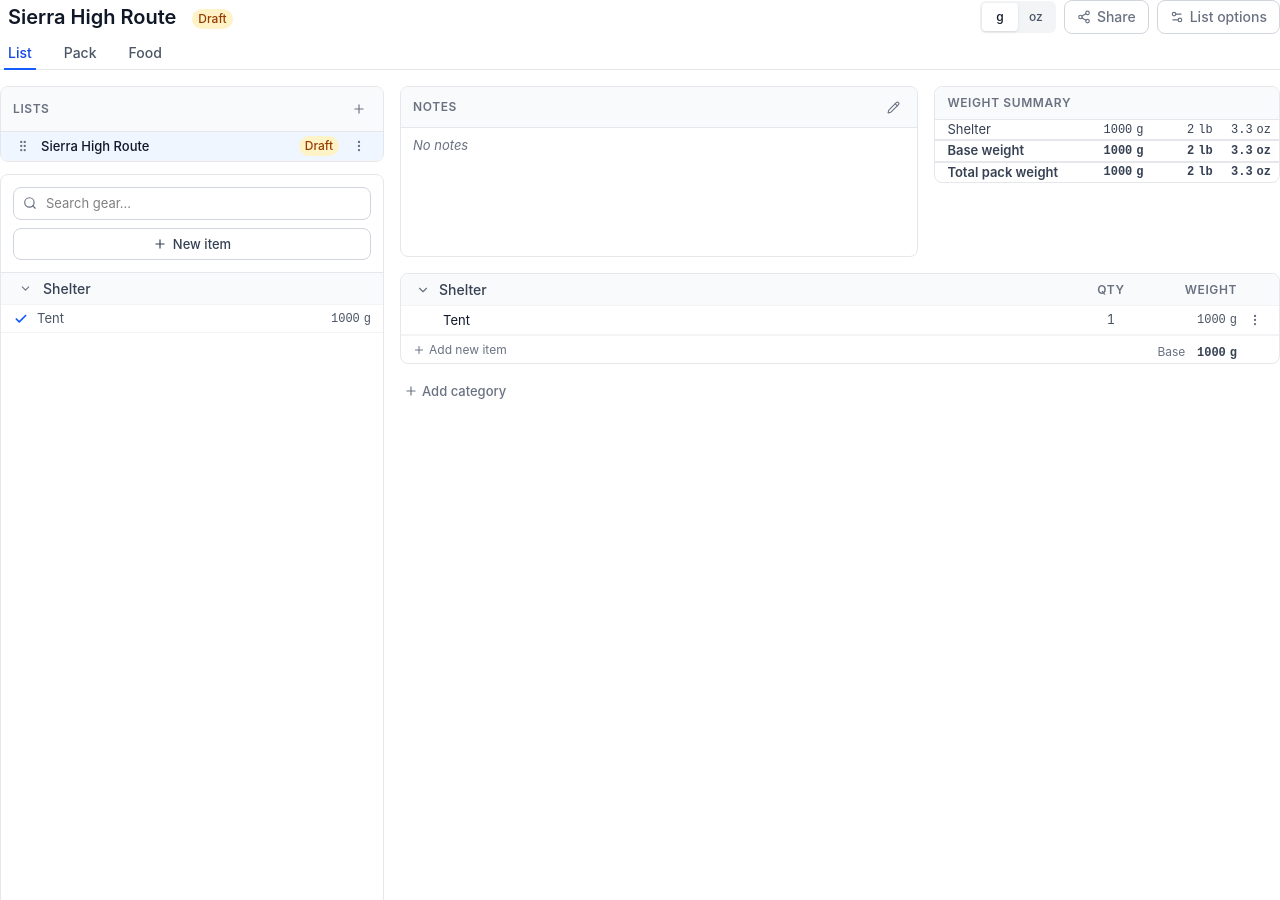
Test case: the edit-gear dialog save › a gear write outstanding from elsewhere does not make this dialog claim it is saving
Click the button named "Item options": (1255, 320) top-left (1243, 308), bottom-right (1267, 332)
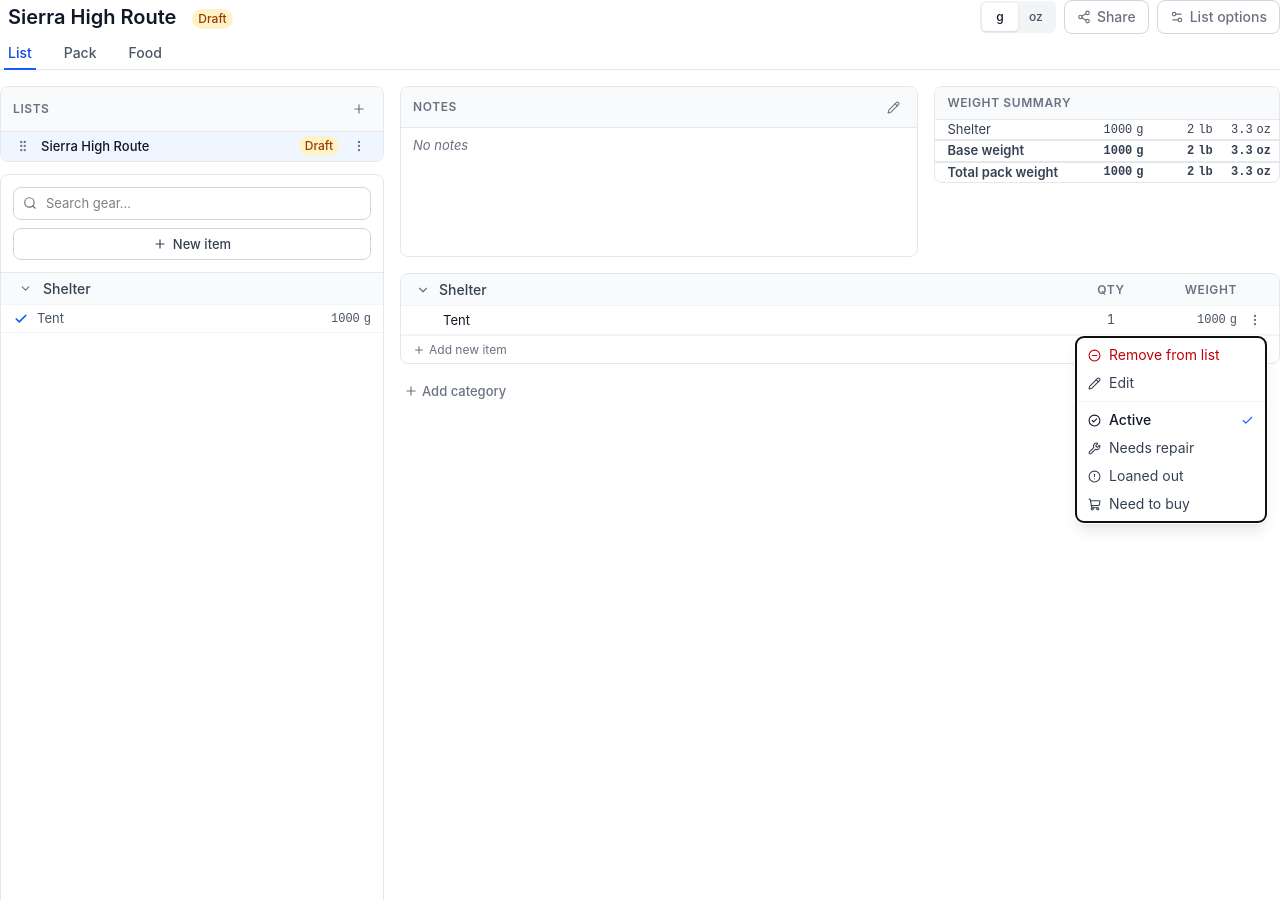
Click the button "Loaned out": (1171, 476) top-left (1076, 462), bottom-right (1266, 490)
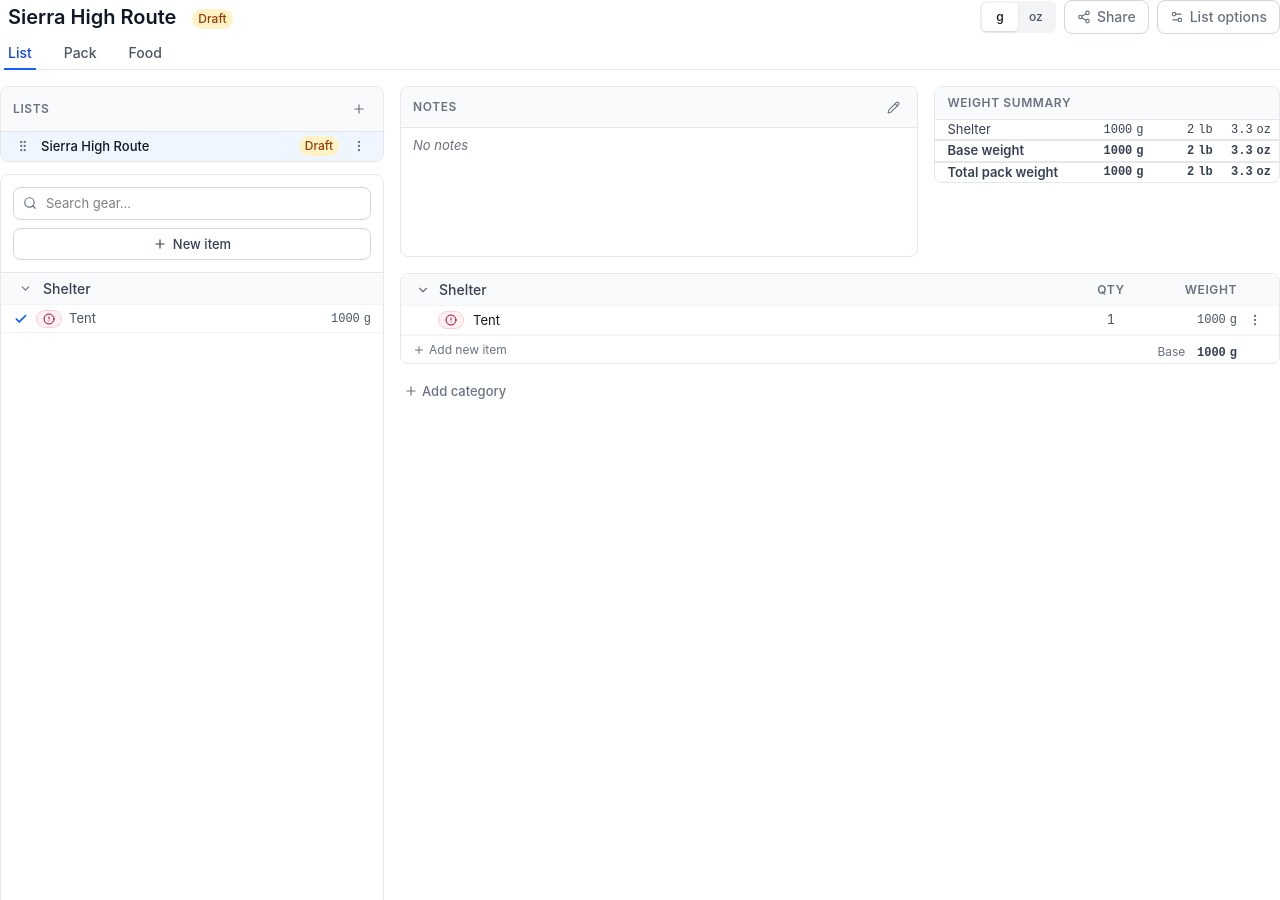
Click the button named "Item options": (1255, 320) top-left (1243, 308), bottom-right (1267, 332)
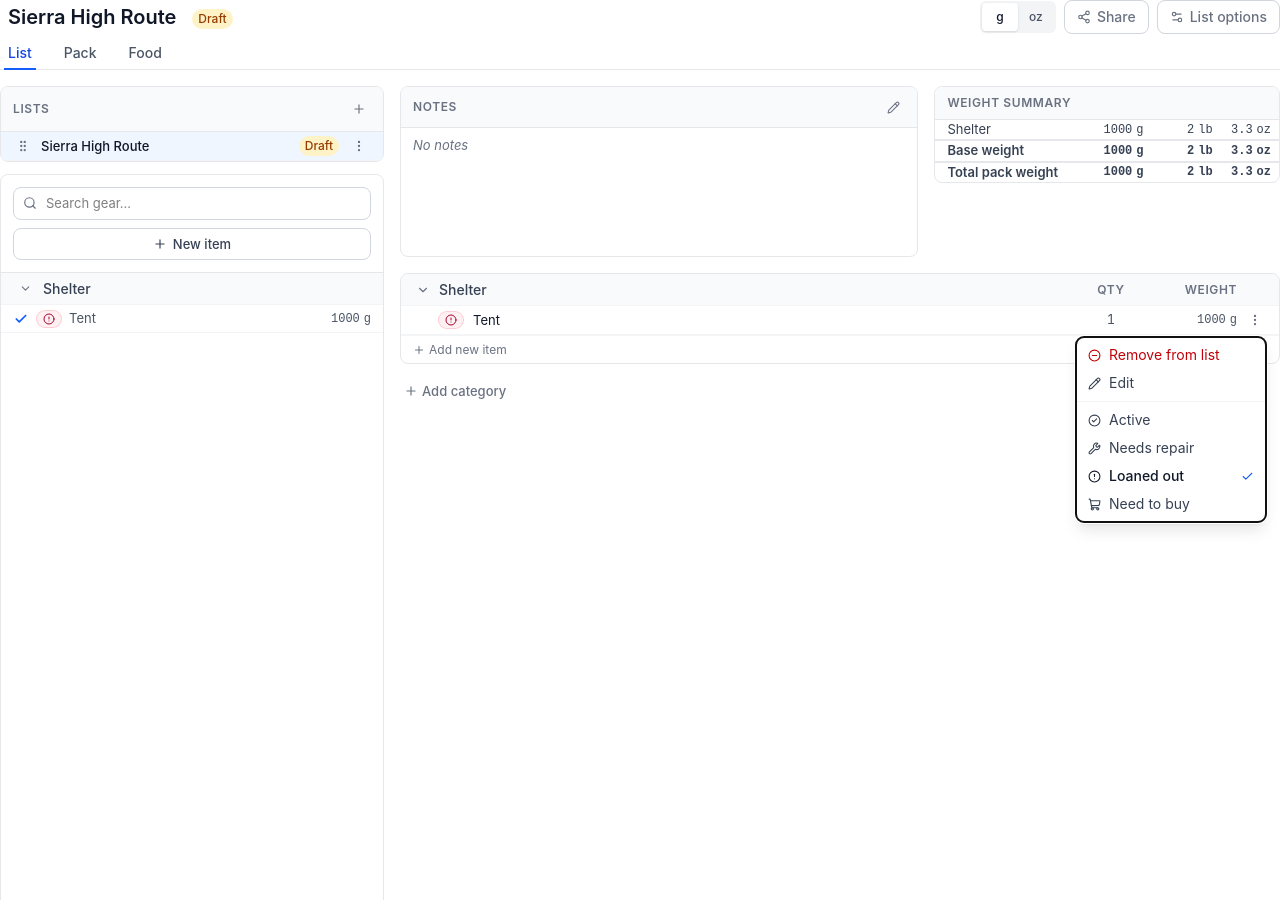
Click the button "Edit": (1171, 383) top-left (1076, 369), bottom-right (1266, 397)
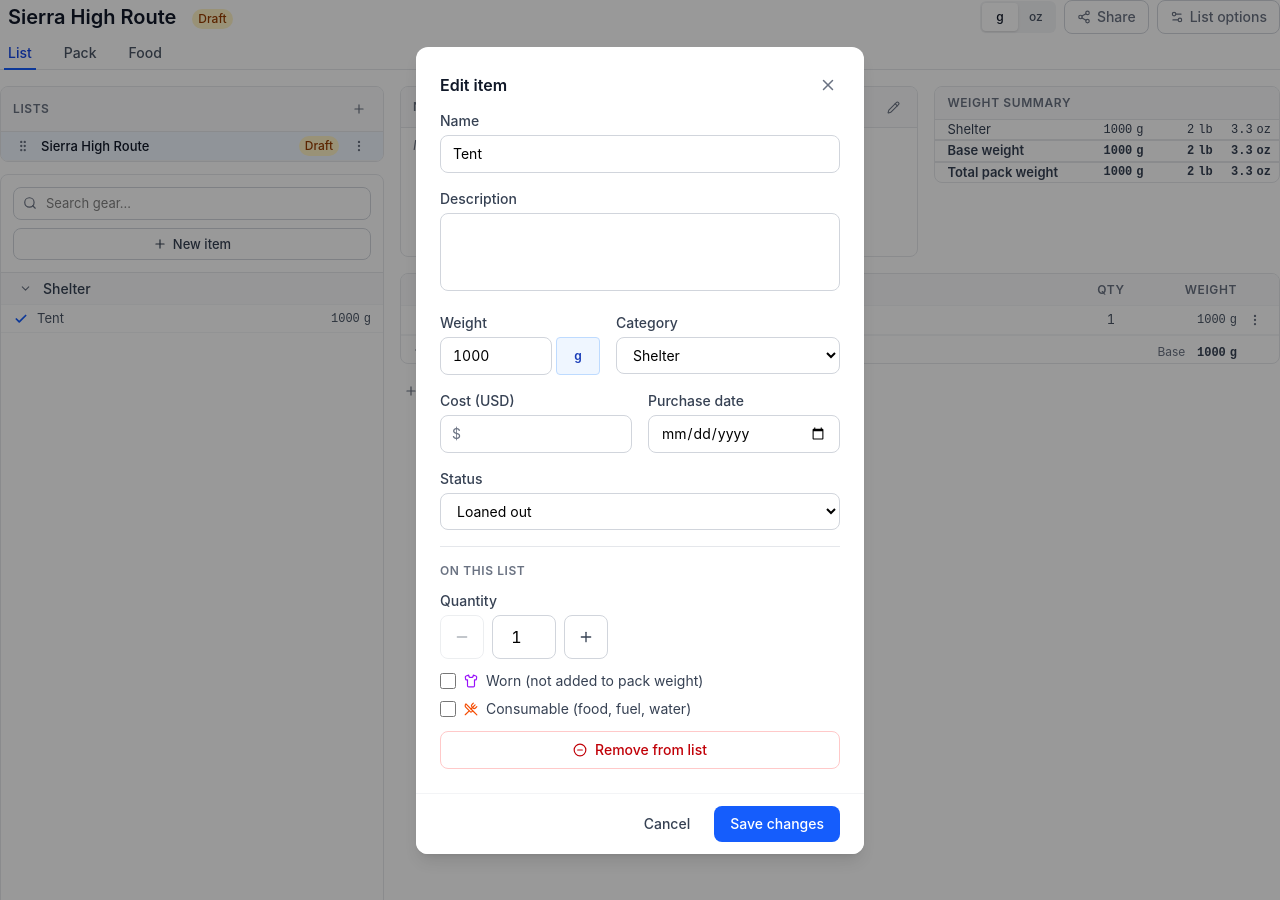
expect the button "Save changes" is shown: met, box top-left (714, 806), bottom-right (840, 842)
expect the field labelled "Name" is enabled: met, box top-left (440, 134), bottom-right (840, 172)
